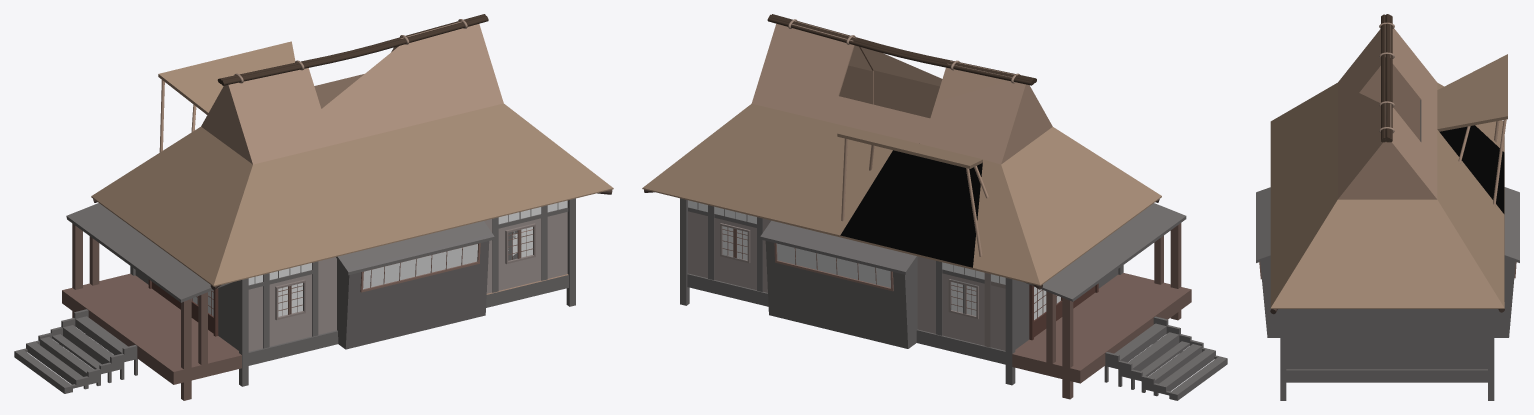
File: forge mesh.fbx
3 views of the same model, side by side, from view 1: azimuth 30°, elevation 25°; view 2: azimuth 150°, elevation 25°; view 3: azimuth 270°, elevation 25° (orthographic). The views are drawn at different scales.
Parts seen in each view (by area): view 1: polySurface14; view 2: polySurface14; view 3: polySurface14.
Boxes of the visible parts, x1=… form: polySurface14: x1=14, y1=14, x2=613, y2=400; polySurface14: x1=642, y1=14, x2=1227, y2=400; polySurface14: x1=1256, y1=14, x2=1519, y2=400.
Size of the model in its own units: 43.5 by 21.19 by 20.5.
